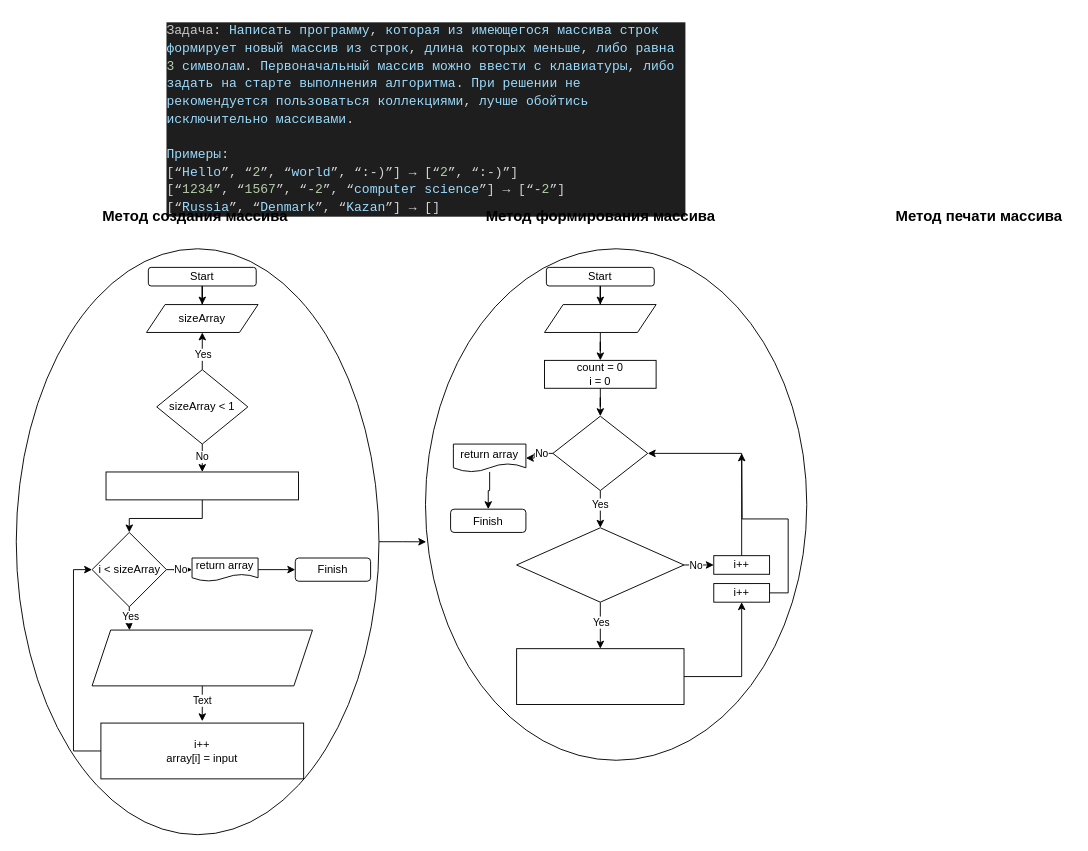
Image size: 1088x851. Some labels were removed from this diagram. Here are the shapes that lost their labels. From the top down, the centre of each, then its label:
At [600,318]: "array".
At [600,453]: "i < array.Length".
At [202,485]: "string [] array = new string [sizeArray] int i = 0".
At [600,564]: "array[i] != null && array [i].Lenght <=3".
At [201,657]: "string input".
At [600,676]: "formatedArray[index] = array [i] index++".
